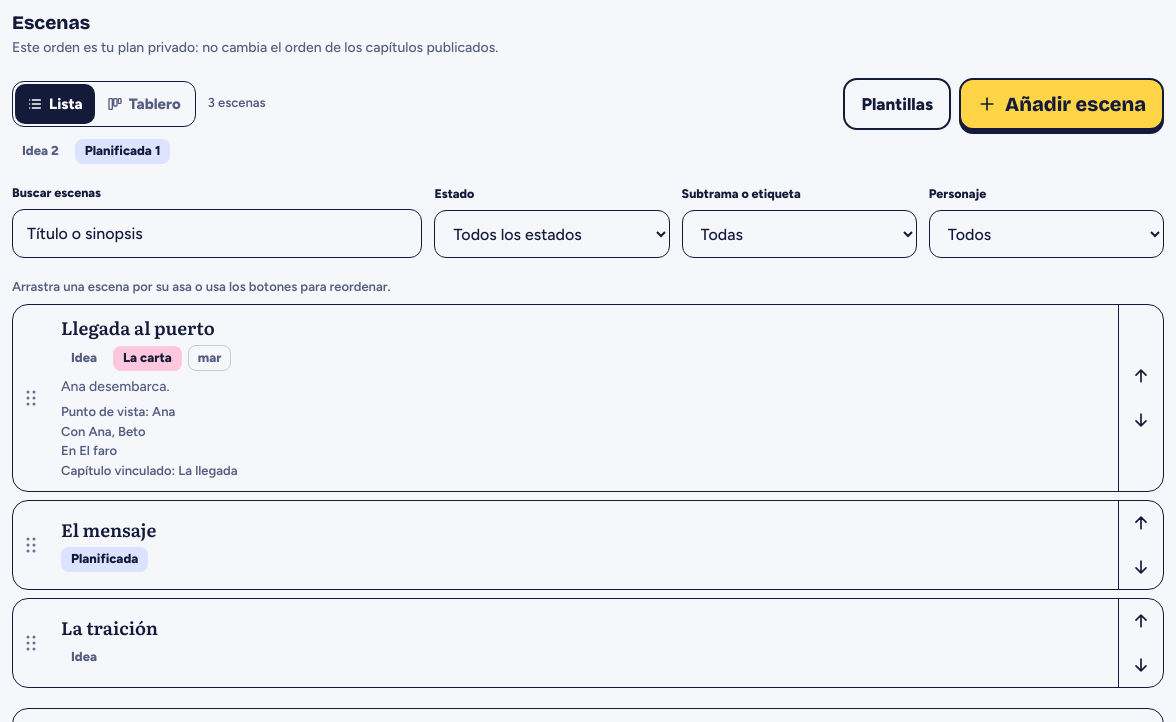
Test: Plan · list › searches ignoring case and accents
Check: the text "Llegada al puerto" is shown, box [61,314,215,341]
Step 1. Type "TRAICION" into the search field labelled "Buscar escenas" → (217, 233), box [12,209,422,258]
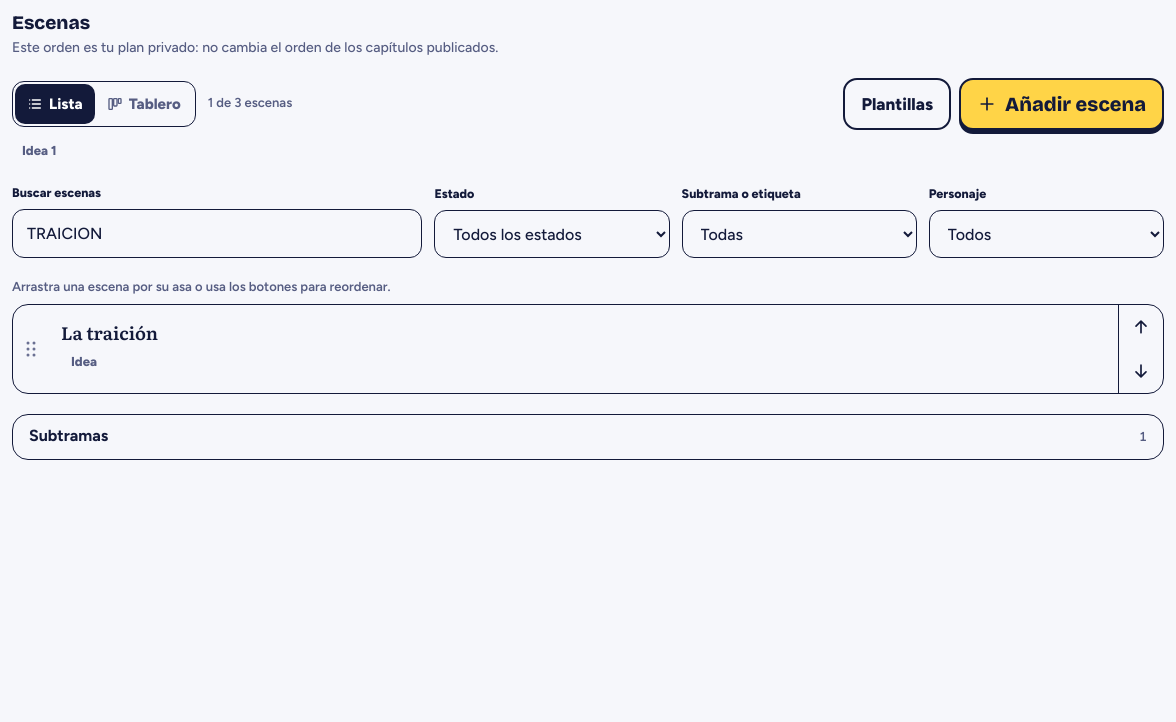
Check: the text "La traición" is shown, box [61,319,158,346]
Check: the button "Llegada al puerto" is gone
Check: the text "1 de 3 escenas" is shown, box [208,94,292,114]
Step 2. Replace the text in the search field labelled "Buscar escenas" with "nadie" → (217, 233), box [12,209,422,258]
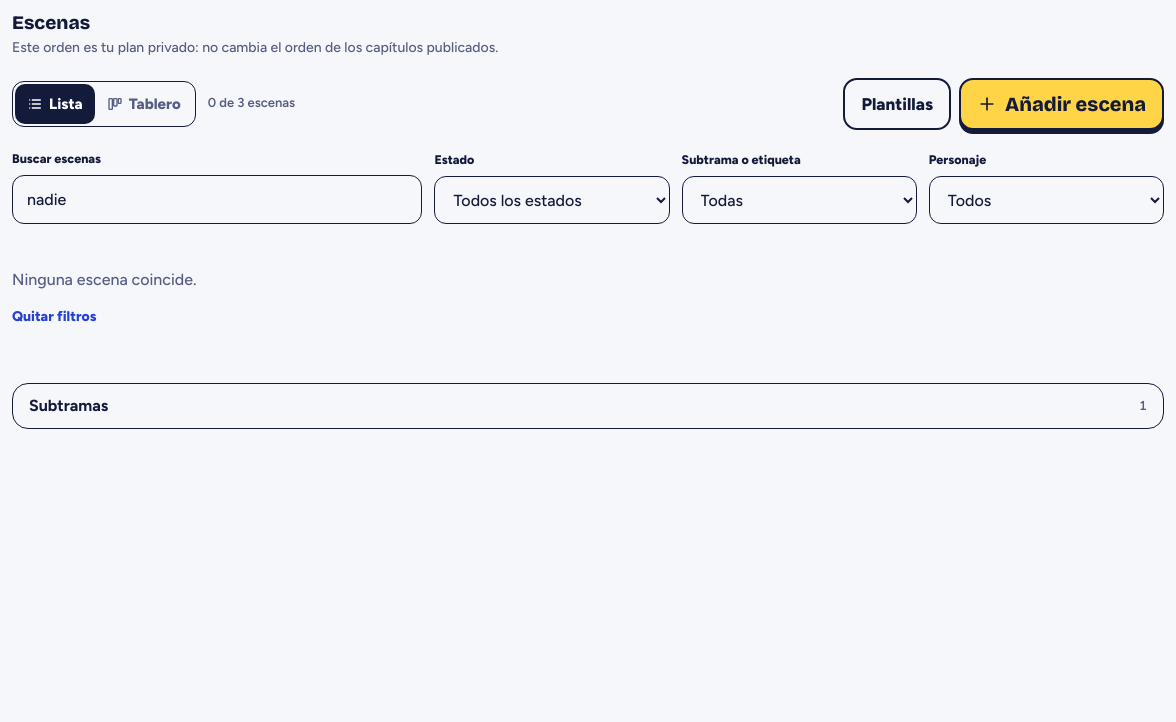
Check: the text "Ninguna escena coincide." is shown, box [12,268,196,291]
